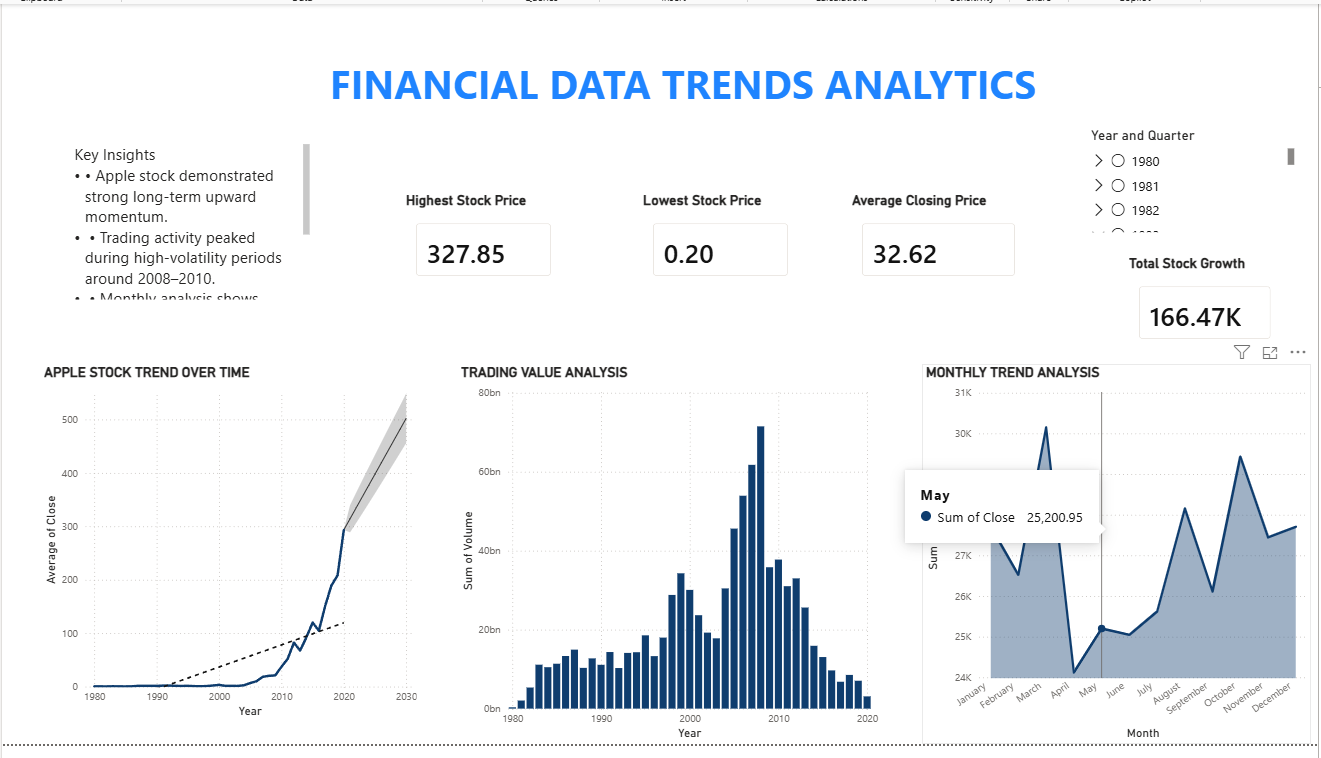

Layout of this report page (visuals, bound fields, positions):
{"tool":"powerbi","page":{"name":"Page 1","canvas":[1600,900],"ordinal":0},"visuals":[{"type":"lineChart","title":"APPLE STOCK TREND OVER TIME","fields":{"Category":["AAPL.Date.Variation.Date Hierarchy.Year","AAPL.Date.Variation.Date Hierarchy.Quarter","AAPL.Date.Variation.Date Hierarchy.Month","AAPL.Date.Variation.Date Hierarchy.Day"],"Y":["Avg(AAPL.Close)"]},"box":[46.2,437.7,463.2,435.3],"z":0},{"type":"cardVisual","title":"Highest Stock Price","fields":{"Data":["Max(AAPL.High)"]},"box":[486.3,228.6,198.2,119.1],"z":1000},{"type":"cardVisual","title":"Lowest Stock Price","fields":{"Data":["Min(AAPL.Low)"]},"box":[774.5,228.6,198.2,119.1],"z":2000},{"type":"cardVisual","title":"Average Closing Price","fields":{"Data":["Avg(AAPL.Close)"]},"box":[1028.6,228.6,220.1,119.1],"z":3000},{"type":"listSlicer","fields":{"Values":["AAPL.Date.Variation.Date Hierarchy.Year","AAPL.Date.Variation.Date Hierarchy.Quarter","AAPL.Date.Variation.Date Hierarchy.Month","AAPL.Date.Variation.Date Hierarchy.Day"]},"box":[1319.1,149.5,257.8,133.7],"z":4000},{"type":"clusteredColumnChart","title":"TRADING VALUE ANALYSIS","fields":{"Category":["AAPL.Date.Variation.Date Hierarchy.Year","AAPL.Date.Variation.Date Hierarchy.Quarter","AAPL.Date.Variation.Date Hierarchy.Month","AAPL.Date.Variation.Date Hierarchy.Day"],"Y":["Sum(AAPL.Volume)"]},"box":[553.2,437.7,517.9,462],"z":5000},{"type":"cardVisual","title":"Total Stock Growth","fields":{"Data":["AAPL.Growth %"]},"box":[1365.3,305.2,194.5,119.1],"z":6000},{"type":"areaChart","title":"MONTHLY TREND ANALYSIS","fields":{"Category":["AAPL.Date.Variation.Date Hierarchy.Month"],"Y":["Sum(AAPL.Close)"]},"box":[1118.5,437.7,472.9,462],"z":7000},{"type":"textbox","box":[68.1,165.3,311.2,199.4],"z":7001},{"type":"textbox","box":[393.9,58.4,880.2,91.2],"z":7002}]}

Visuals, with their boxes on the page's 1600x900 design canvas (x1, y1, x2, y2). These are canvas units, not pixel positions in the 1321x758 screenshot, which may show the page scaled, cropped or inside an application window:
"APPLE STOCK TREND OVER TIME" lineChart: left=46, top=438, right=509, bottom=873
"Highest Stock Price" cardVisual: left=486, top=229, right=684, bottom=348
"Lowest Stock Price" cardVisual: left=774, top=229, right=973, bottom=348
"Average Closing Price" cardVisual: left=1029, top=229, right=1249, bottom=348
listSlicer - AAPL.Date.Variation.Date Hierarchy.Year x AAPL.Date.Variation.Date Hierarchy.Quarter: left=1319, top=150, right=1577, bottom=283
"TRADING VALUE ANALYSIS" clusteredColumnChart: left=553, top=438, right=1071, bottom=900
"Total Stock Growth" cardVisual: left=1365, top=305, right=1560, bottom=424
"MONTHLY TREND ANALYSIS" areaChart: left=1118, top=438, right=1591, bottom=900
textbox: left=68, top=165, right=379, bottom=365
textbox: left=394, top=58, right=1274, bottom=150
